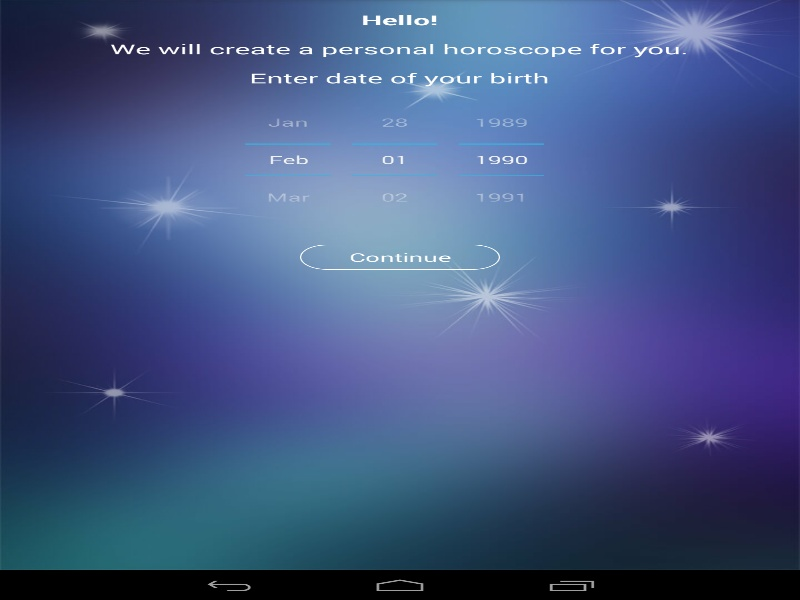Button: (458, 103, 544, 144), (458, 174, 544, 215), (245, 103, 330, 144), (245, 174, 330, 215), (352, 103, 437, 144), (352, 174, 437, 215)
Input: (458, 144, 544, 174), (245, 144, 330, 174), (352, 144, 437, 174)
